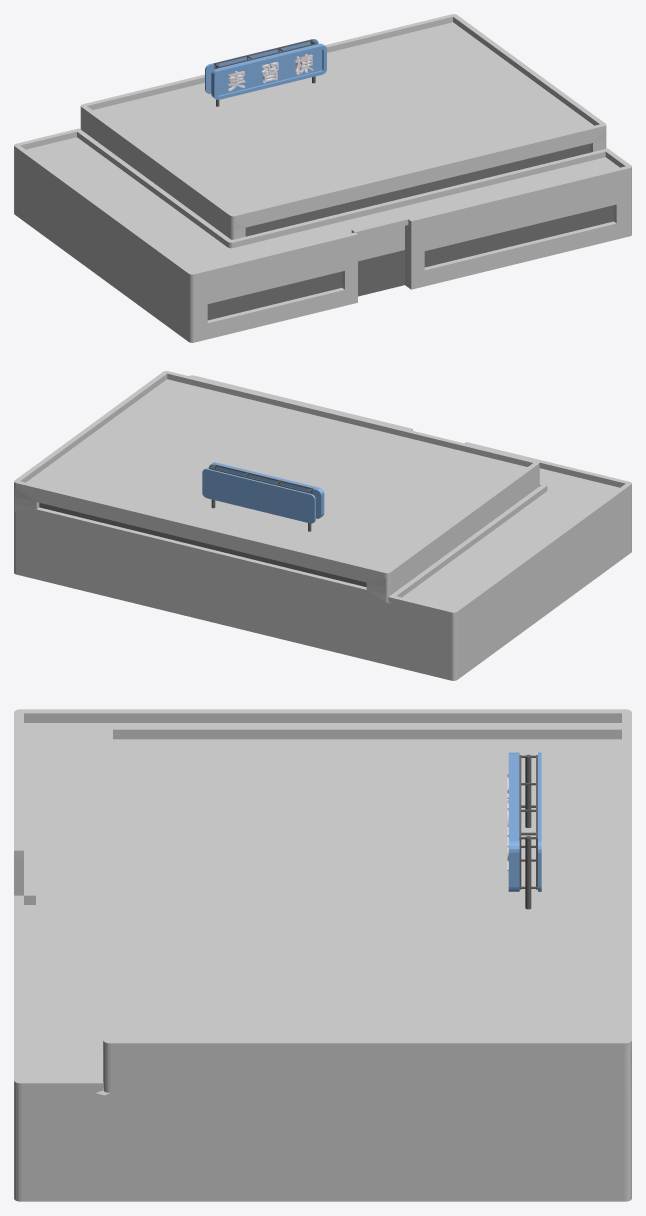
Rendered from map_machine_workshop.glb.
3 views of the same model, one above another, from view 1: azimuth 30°, elevation 25°; view 2: azimuth 150°, elevation 25°; view 3: azimuth 270°, elevation 25° (orthographic). The views are drawn at different scales.
Parts seen in each view (by area): view 1: 実習棟, Cube.022, テキスト.013, Cube.023; view 2: 実習棟, Cube.023, Cube.022; view 3: 実習棟, Cube.022.
Part boxes in pixels (x1,y1,x2,y2): 実習棟: [14, 14, 631, 342]; Cube.022: [211, 43, 326, 99]; テキスト.013: [227, 54, 313, 91]; Cube.023: [205, 39, 318, 93]; 実習棟: [14, 371, 631, 680]; Cube.023: [202, 468, 315, 523]; Cube.022: [208, 462, 324, 518]; 実習棟: [14, 709, 631, 1201]; Cube.022: [508, 752, 519, 891].
Size of the model in its own units: 33.47 by 9.17 by 23.36.
